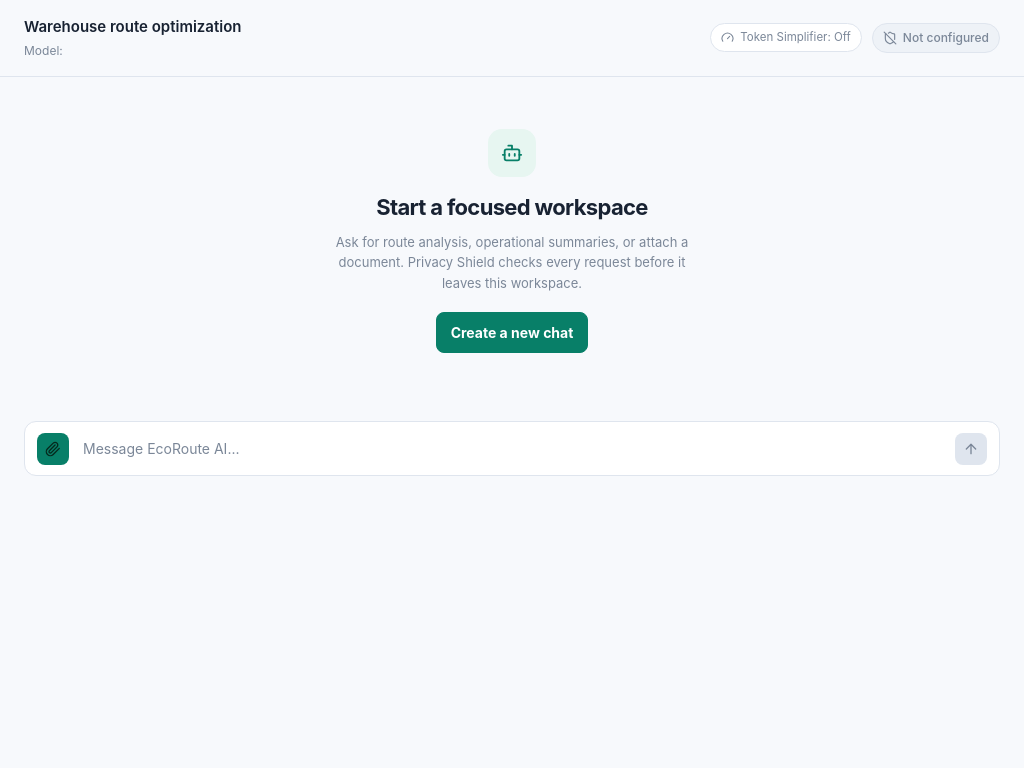
Scenario: ChatArea - Smart Model Router integration › reports routing analytics via onRouteResult without fabricating data
Type "hello there" into the text box with placeholder "Message EcoRoute AI...".
click(512, 448); type("hello there")  # box [79,432,945,465]
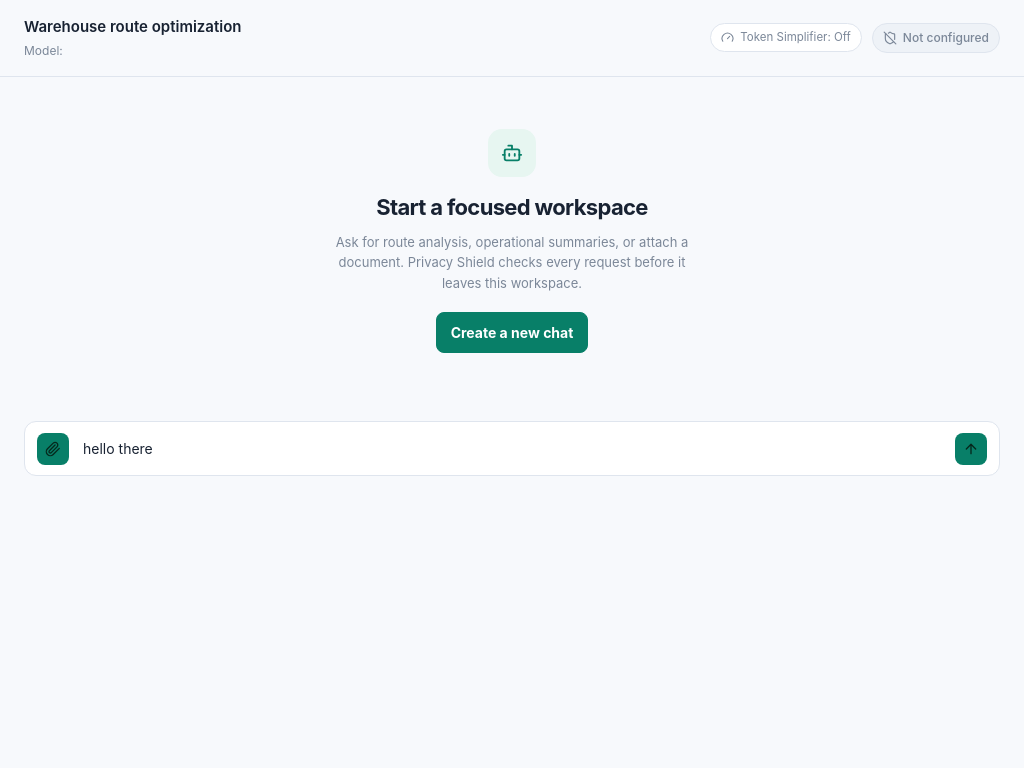
Click the button named "Send message".
click(971, 449)  # box [955,433,987,465]
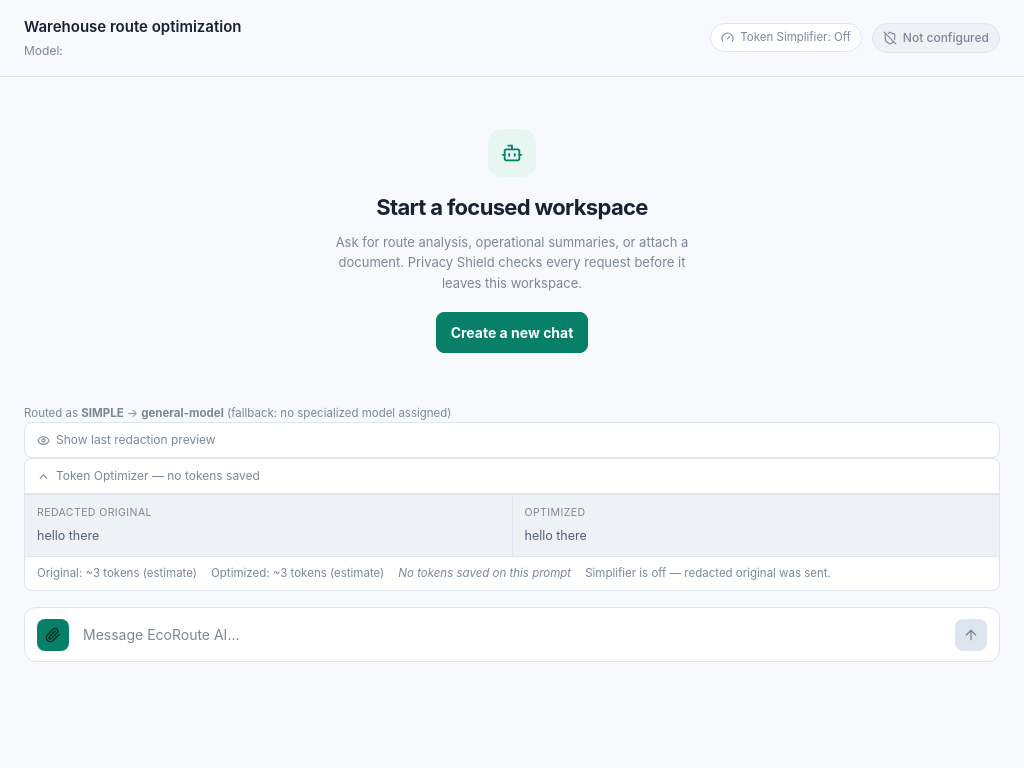
Check: the text "SIMPLE" is shown, box [81,406,124,420]
